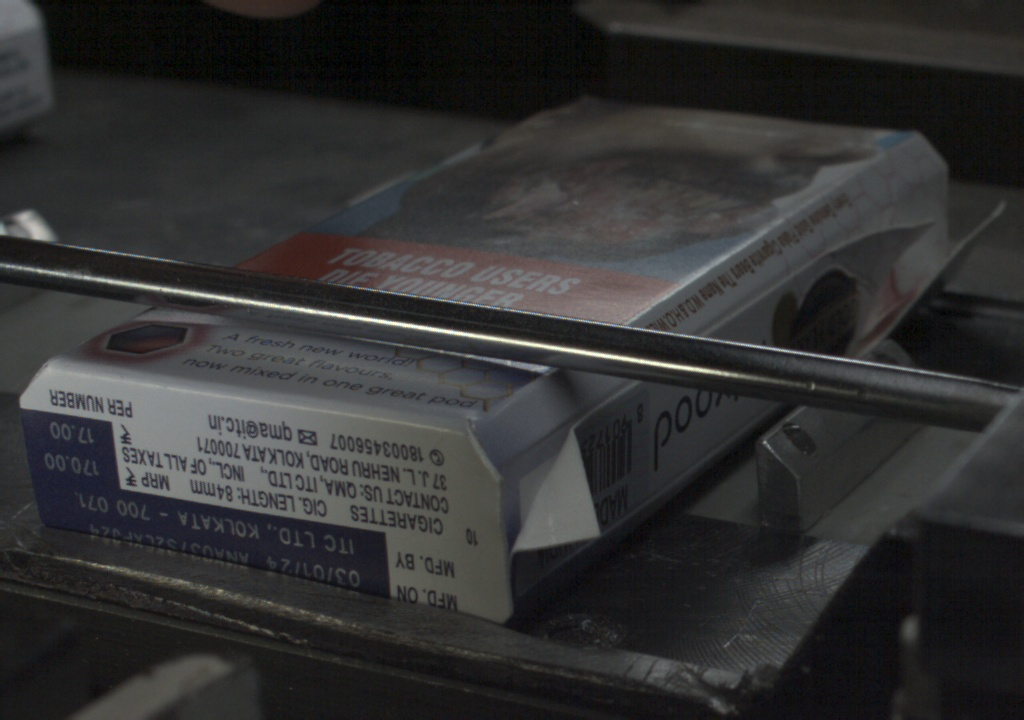g_bottom: (17, 364, 502, 627)
g_label: (32, 486, 392, 596)
g_lmiter: (750, 255, 825, 301), (702, 289, 770, 336)
ng_lmiter: (504, 409, 603, 545), (840, 213, 929, 256)
ng_miter: (925, 157, 1004, 268)
price: (23, 417, 117, 485)
